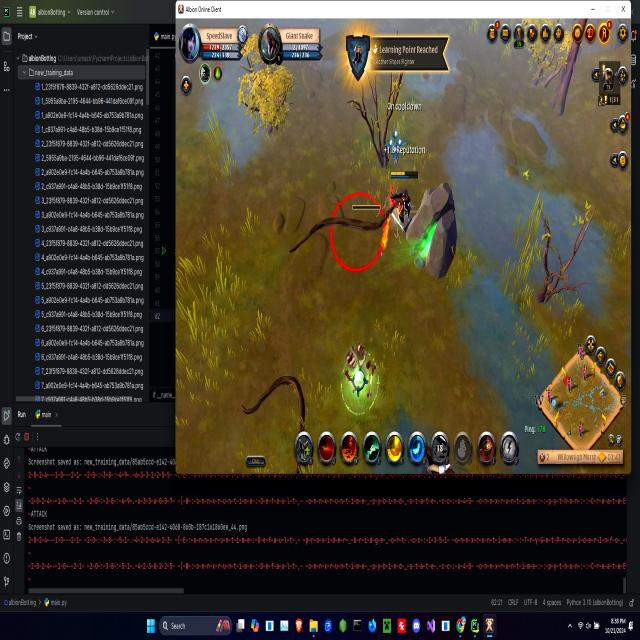hide: (383, 120, 408, 169)
ore: (287, 184, 398, 274), (238, 366, 304, 473)
red: (388, 167, 421, 229)
